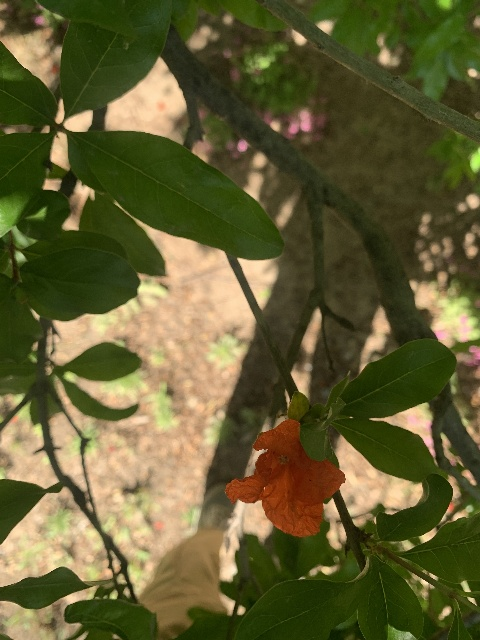flower: (224, 418, 343, 537)
